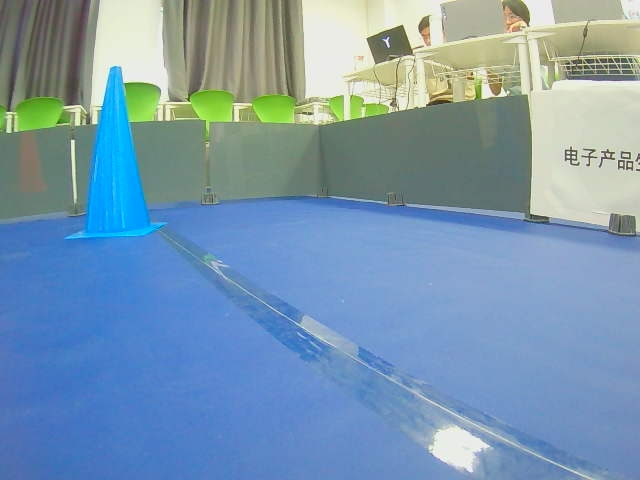target: (563, 144, 640, 171)
